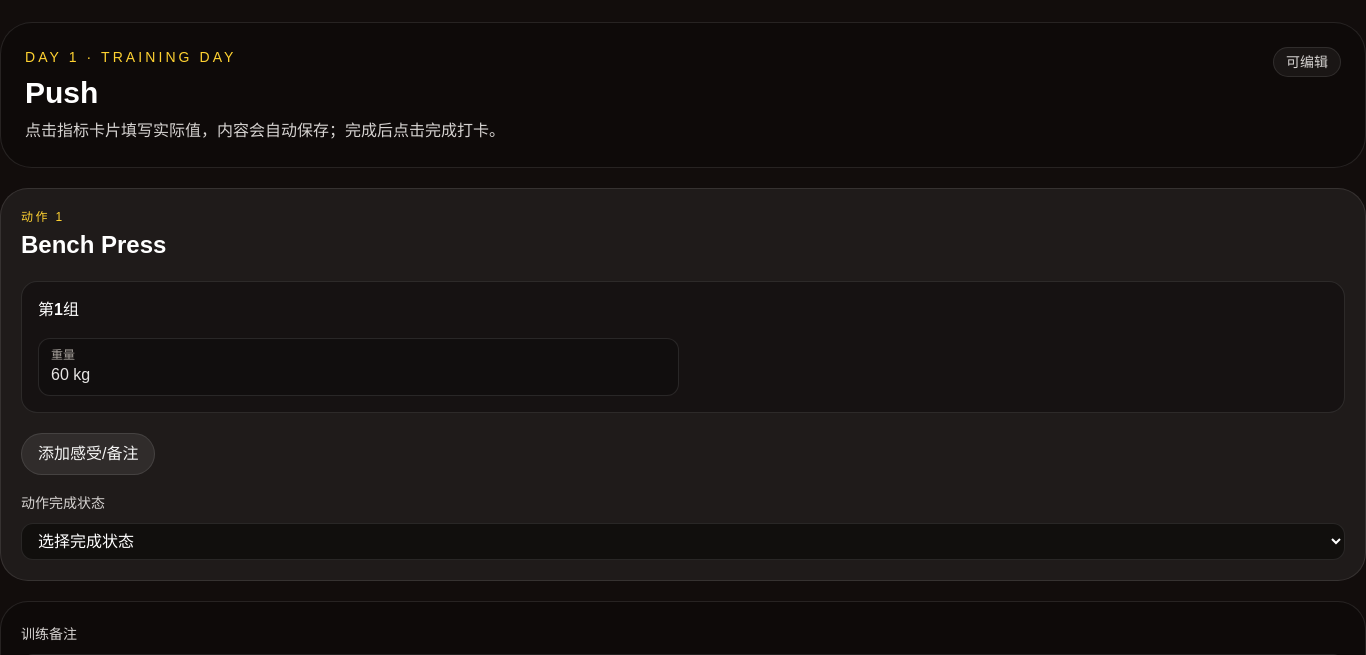
WorkoutPage › shows failure reason only for non-completed exercise states
(page scrolled)
expect the heading "Bench Press" is shown: met, box [21,229,166,261]
expect the text "失败 / 跳过原因" is not shown: met
Step 1. Select "已跳过" in the dropdown named "Bench Press 完成状态" → (683, 542), box [21,523,1345,560]
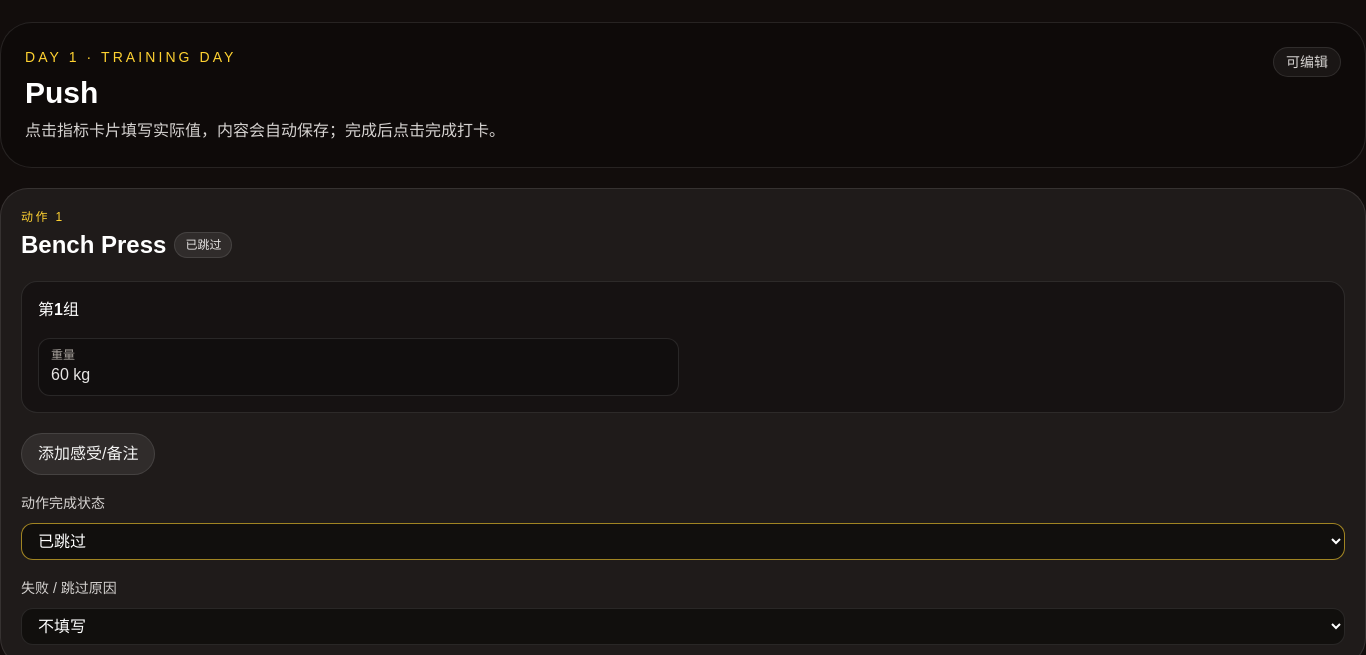
expect the text "失败 / 跳过原因" is shown: met, box [21,580,117,596]
Step 2. Select "已完成" in the dropdown named "Bench Press 完成状态" → (683, 542), box [21,523,1345,560]
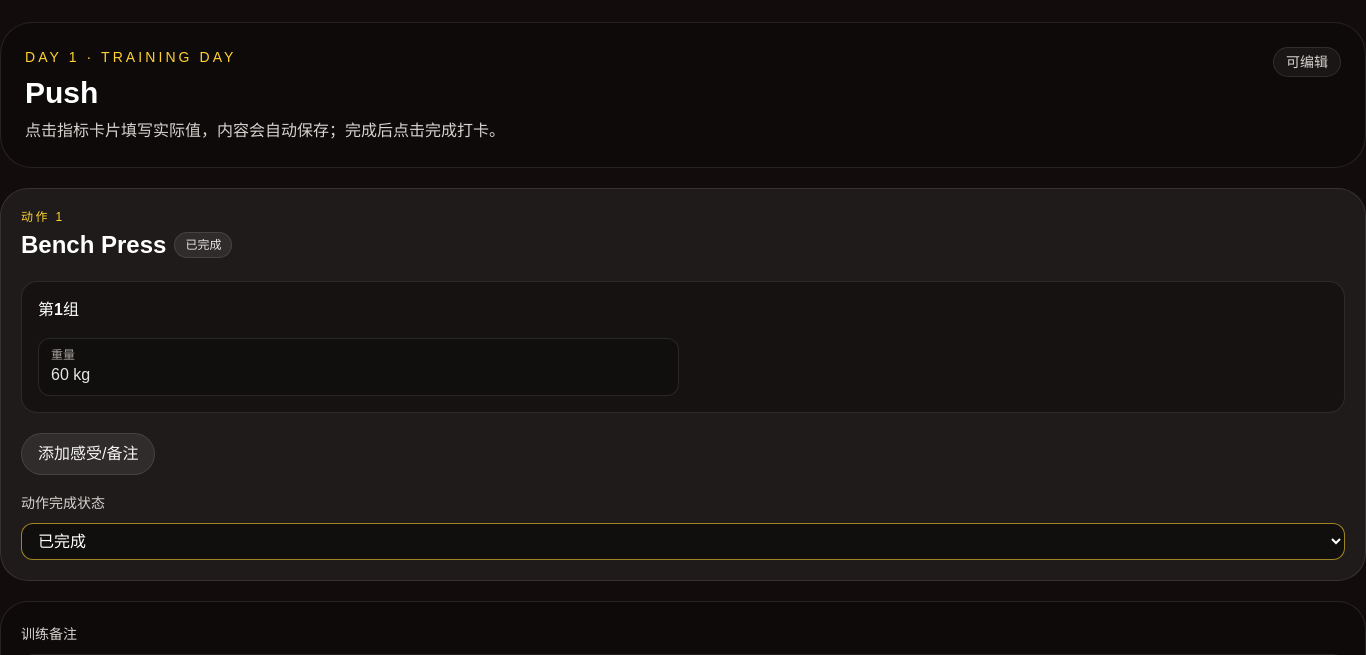
expect the text "失败 / 跳过原因" is gone: met
